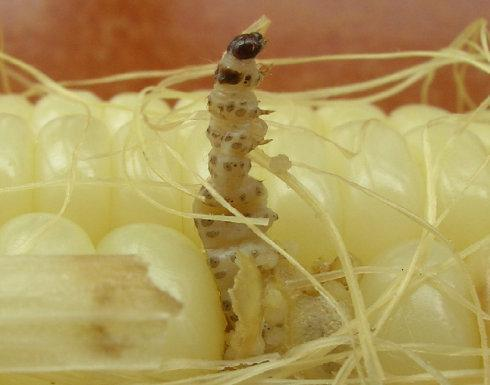caterpillars: (154, 5, 335, 365)
